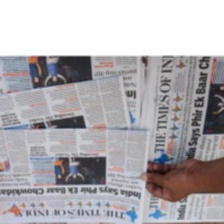news_paper: (0, 127, 152, 223), (144, 51, 224, 224), (0, 55, 145, 133), (0, 71, 134, 135)
